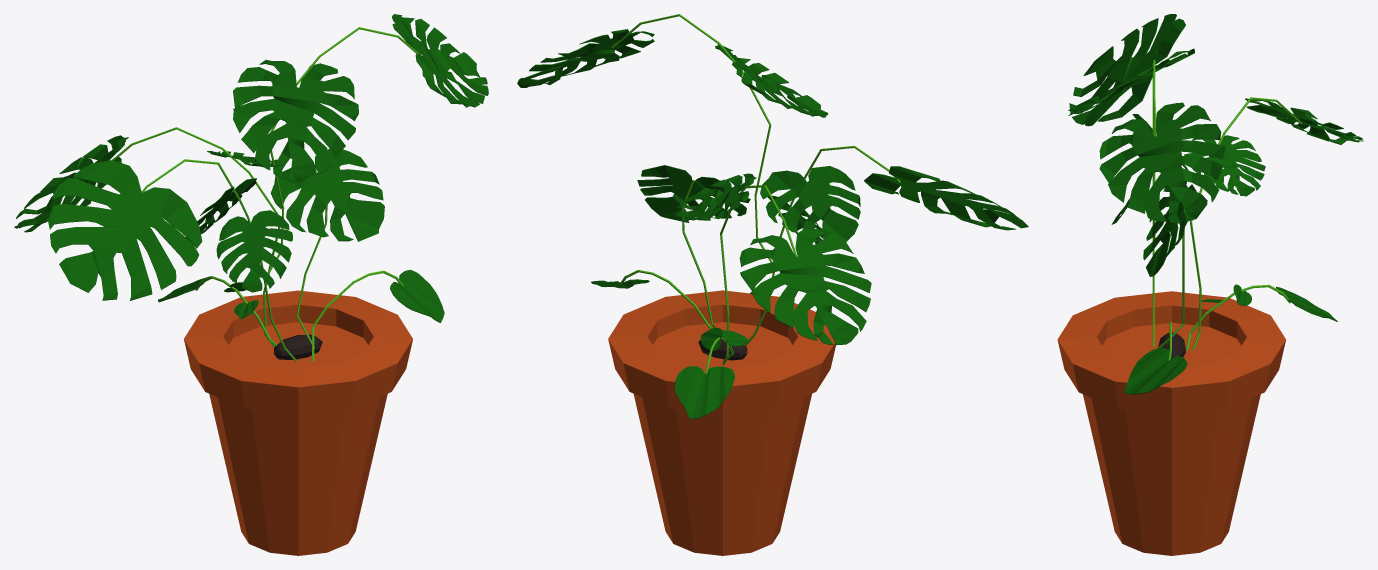
Rendered from plant_final_01.FBX.
The picture shows the model from 3 angles, left to right: view 1: azimuth 30°, elevation 25°; view 2: azimuth 150°, elevation 25°; view 3: azimuth 270°, elevation 25°; orthographic projection.
Parts seen in each view (by area): view 1: flower_pot, 4_leaf_small_2 (×2), 4_leaf, 2_leaf, 4_leaf_bigger, 3_leaf_big, 1_leaf, 4_leaf_small, 0_seed, 3_stalk, 4_stalk, 4_stalk_3; view 2: flower_pot, 3_leaf_big, 4_leaf_small, 4_leaf, 4_leaf_bigger, 2_leaf, 3_leaf_small, 4_leaf_small_2, 3_leaf, 4_stalk_3, 3_stalk; view 3: flower_pot, 4_leaf_bigger, 4_leaf, 3_leaf, 1_leaf, 2_leaf, 3_leaf_big, 4_leaf_small_2, 3_stalk, 3_leaf_small, 0_seed, 4_stalk (+1 smaller).
Part boxes in pixels (x1,y1,x2,y2): flower_pot: (184,290,412,555); 4_leaf_small_2 (×2): (216,60,358,292); 4_leaf: (48,160,202,300); 2_leaf: (270,148,384,241); 4_leaf_bigger: (392,14,488,107); 3_leaf_big: (14,135,128,232); 1_leaf: (390,269,444,322); 4_leaf_small: (186,178,256,241); 0_seed: (274,334,322,359); 3_stalk: (112,127,280,347); 4_stalk: (141,159,296,361); 4_stalk_3: (267,27,420,273); flower_pot: (608,290,835,555); 3_leaf_big: (739,228,871,345); 4_leaf_small: (760,166,860,241); 4_leaf: (864,166,1028,230); 4_leaf_bigger: (517,29,654,87); 2_leaf: (637,165,750,222); 3_leaf_small: (674,366,734,419); 4_leaf_small_2: (715,44,828,117); 3_leaf: (675,173,756,221); 4_stalk_3: (611,14,772,262); 3_stalk: (720,185,797,364); flower_pot: (1057,291,1285,555); 4_leaf_bigger: (1099,102,1225,223); 4_leaf: (1069,14,1185,126); 3_leaf: (1184,135,1265,196); 1_leaf: (1124,347,1187,394); 2_leaf: (1143,181,1196,276); 3_leaf_big: (1245,98,1363,144); 4_leaf_small_2: (1068,48,1194,115); 3_stalk: (1190,97,1302,349); 3_leaf_small: (1276,287,1337,321); 0_seed: (1158,332,1185,358); 4_stalk: (1152,63,1154,346).
Size of the model in its own units: 67.12 by 69.32 by 38.69.
